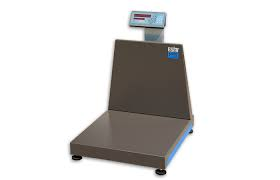Industrial Scale: (68, 9, 194, 175)
